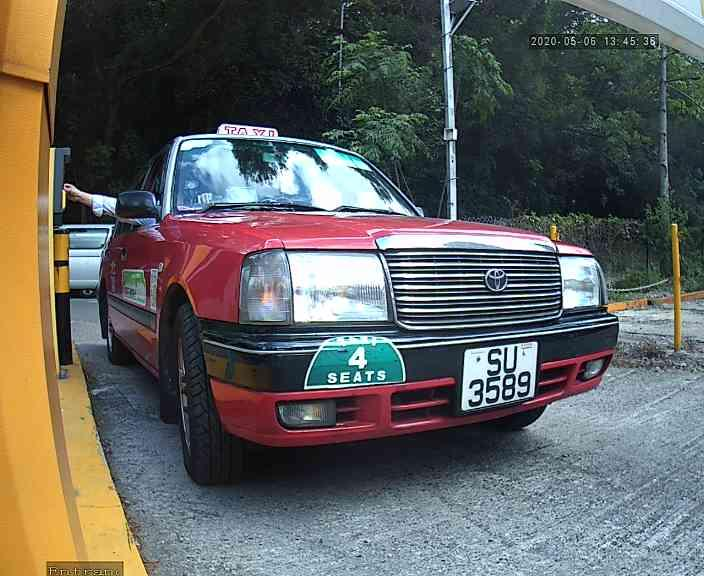Car: (85, 11, 610, 502)
License Plate: (453, 343, 541, 409)
